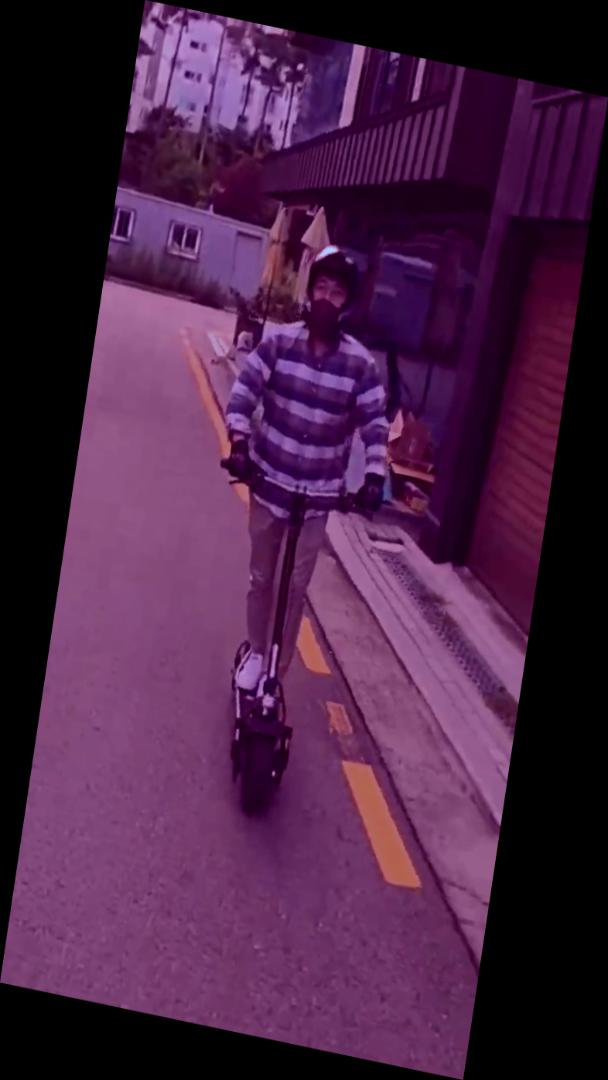helmet: (165, 223, 422, 836)
